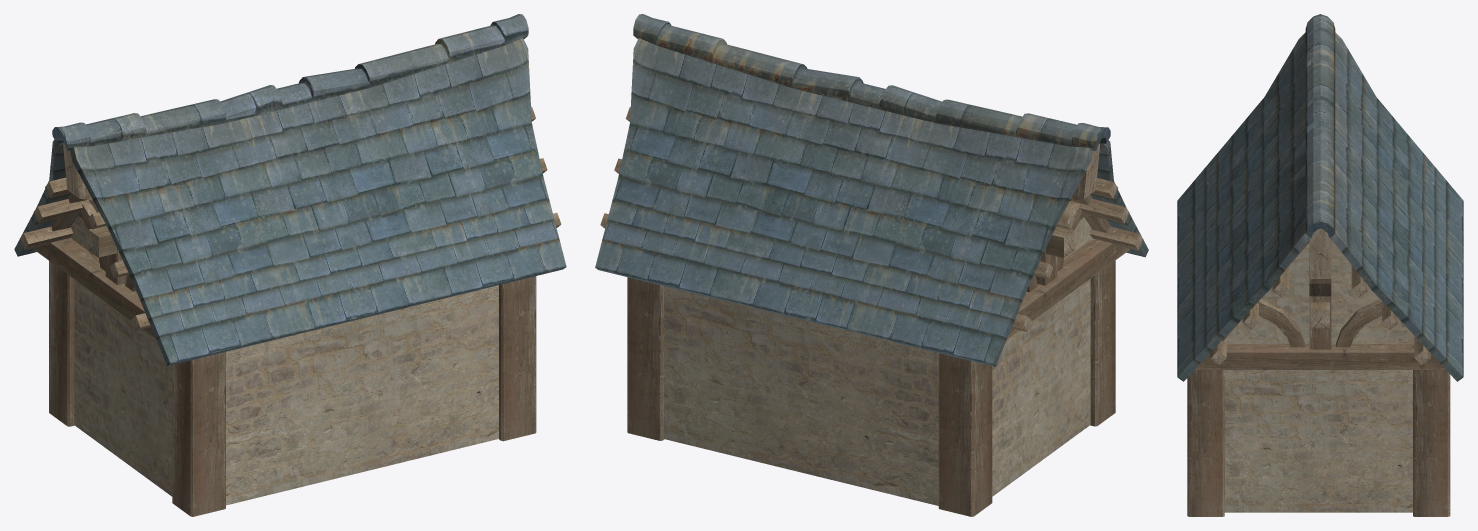
Rendered from bg_lut_lakebar_house03b_sm_jjy.FBX.
3 views of the same model, side by side, from view 1: azimuth 30°, elevation 25°; view 2: azimuth 150°, elevation 25°; view 3: azimuth 270°, elevation 25° (orthographic). The views are drawn at different scales.
Parts seen in each view (by area): view 1: bg_lut_lakebar_house03b_sm_jjy; view 2: bg_lut_lakebar_house03b_sm_jjy; view 3: bg_lut_lakebar_house03b_sm_jjy.
Part boxes in pixels (x1,y1,x2,y2): bg_lut_lakebar_house03b_sm_jjy: (14,14,566,516); bg_lut_lakebar_house03b_sm_jjy: (595,14,1148,516); bg_lut_lakebar_house03b_sm_jjy: (1177,14,1463,516).
Size of the model in its own units: 355 by 256 by 207.
